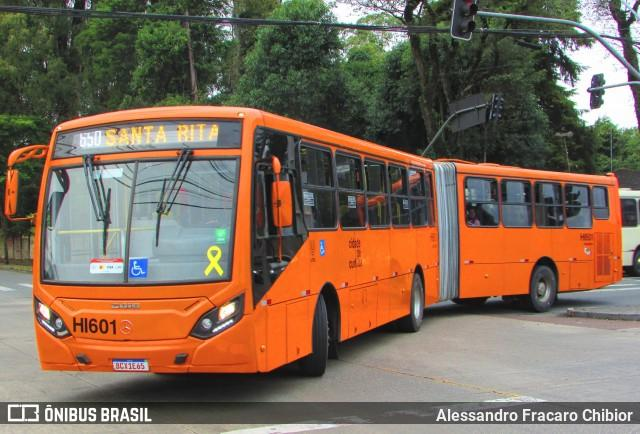SANTA RITA: (102, 121, 221, 149)
